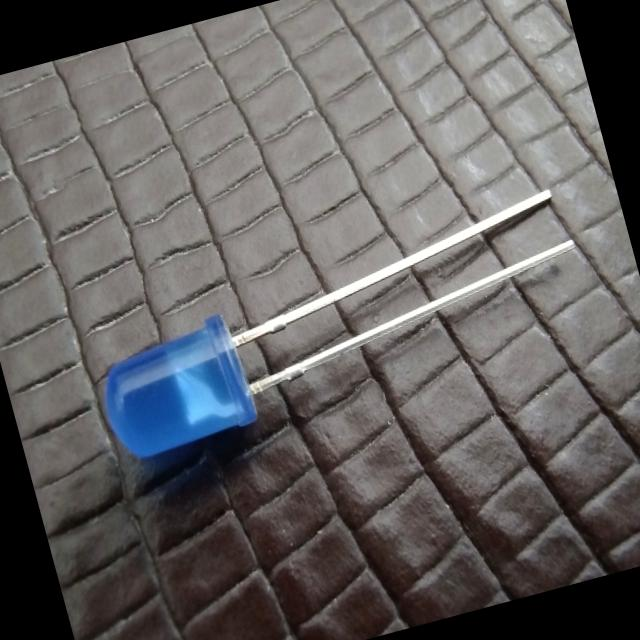blue_led: (86, 308, 262, 466)
